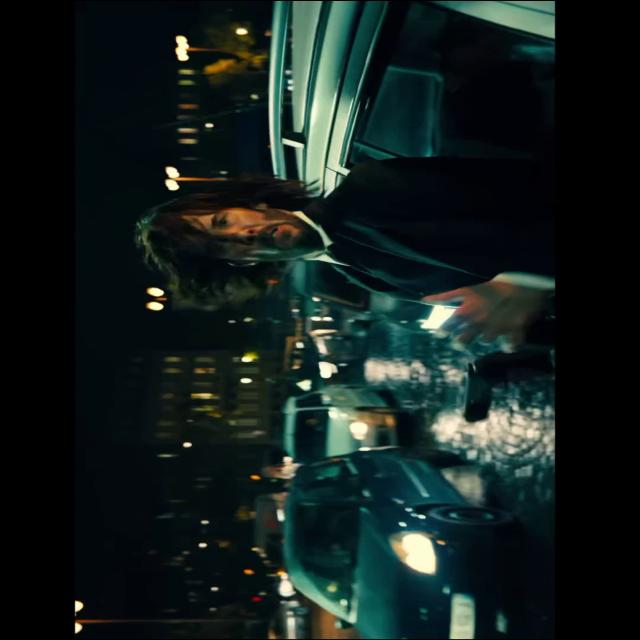weapons: (448, 341, 552, 431)
